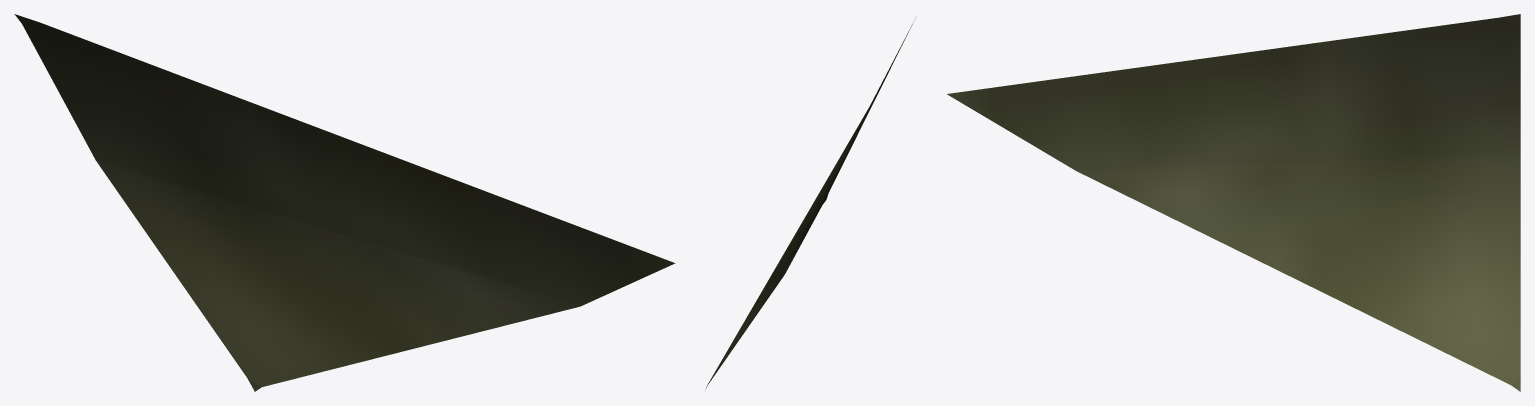
3 views of the same model, side by side, from view 1: azimuth 30°, elevation 25°; view 2: azimuth 150°, elevation 25°; view 3: azimuth 270°, elevation 25° (orthographic). The views are drawn at different scales.
Size of the model in its own units: 0.9901 by 1.72 by 3.
Materials: 1 (1 with a texture image).
